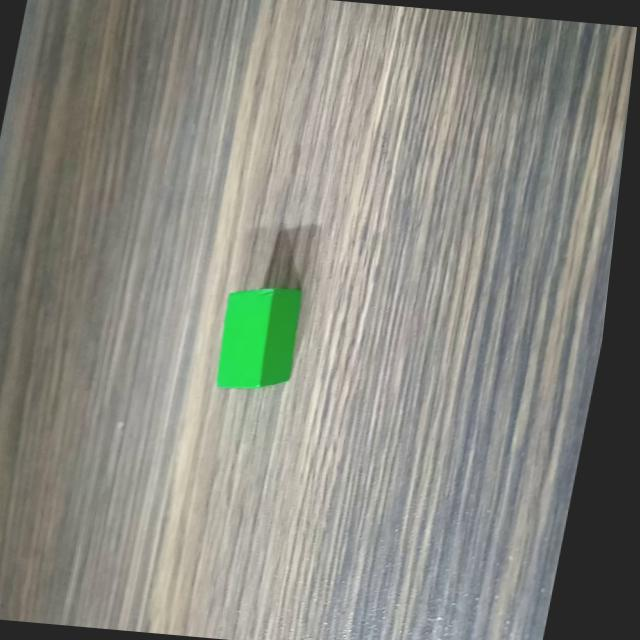cube: (212, 275, 319, 397)
